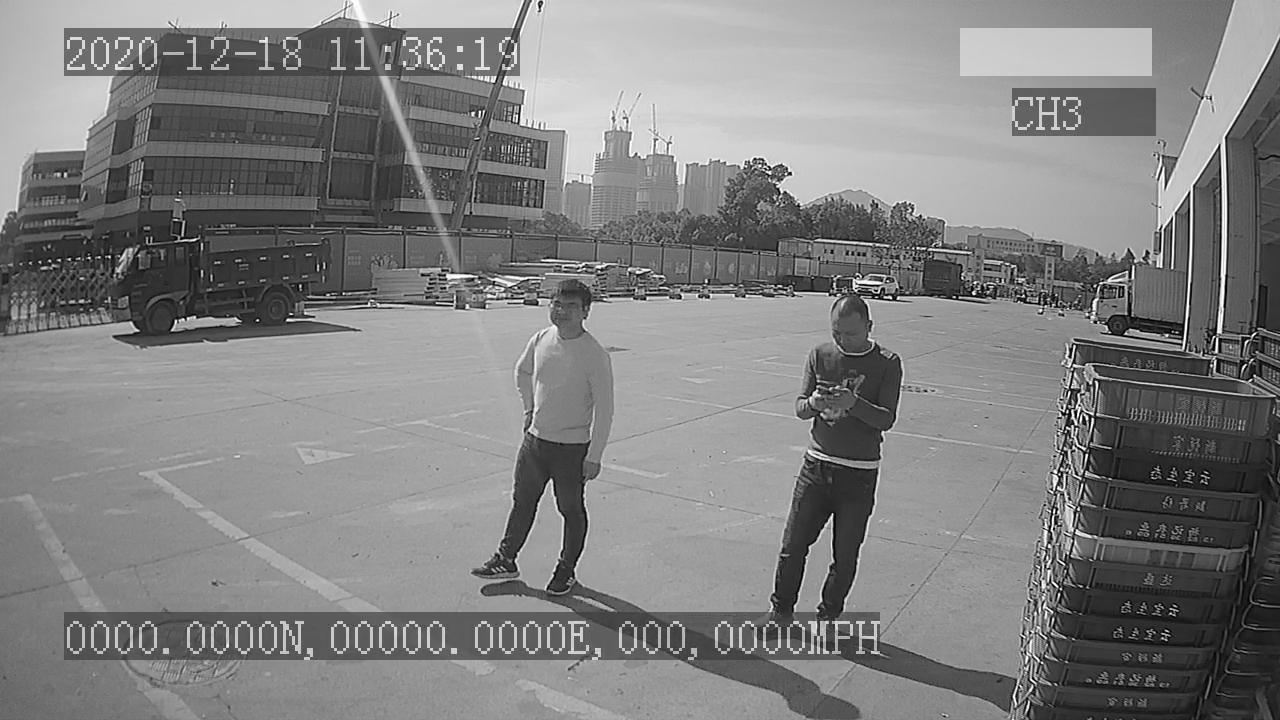person: (470, 277, 619, 596)
